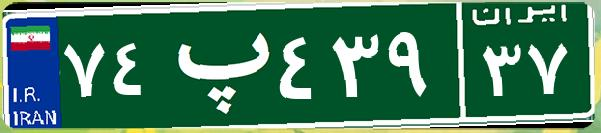3: (330, 28, 385, 110), (475, 38, 525, 113)
4: (273, 28, 330, 110), (110, 28, 158, 105)
7: (57, 26, 110, 107), (525, 38, 570, 115)
9: (385, 28, 445, 110)
پ: (158, 15, 273, 115)
